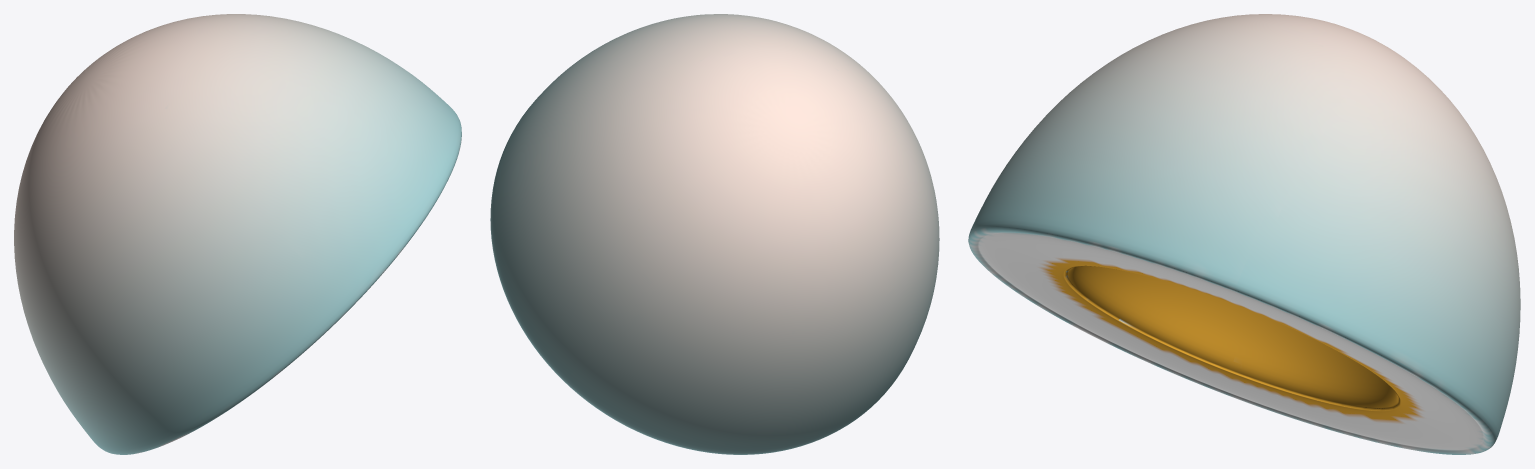
The picture shows the model from 3 angles, left to right: view 1: azimuth 30°, elevation 25°; view 2: azimuth 150°, elevation 25°; view 3: azimuth 270°, elevation 25°; orthographic projection. The views are drawn at different scales.
Visible parts, largest first — view 1: Sphere.027; view 2: Sphere.027; view 3: Sphere.027.
Boxes of the visible parts, left/top/right/bottom form: Sphere.027: left=14, top=14, right=461, bottom=454; Sphere.027: left=490, top=14, right=939, bottom=454; Sphere.027: left=968, top=14, right=1520, bottom=454.
Bounding box in the file's own units: 0.8713 × 0.813 × 0.9009.
Materials: 1 (1 with a texture image).
